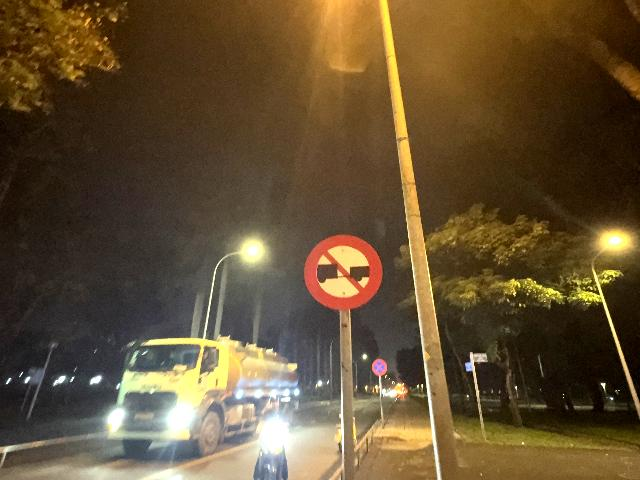cam-xe-somi-romooc: (304, 234, 383, 310)
